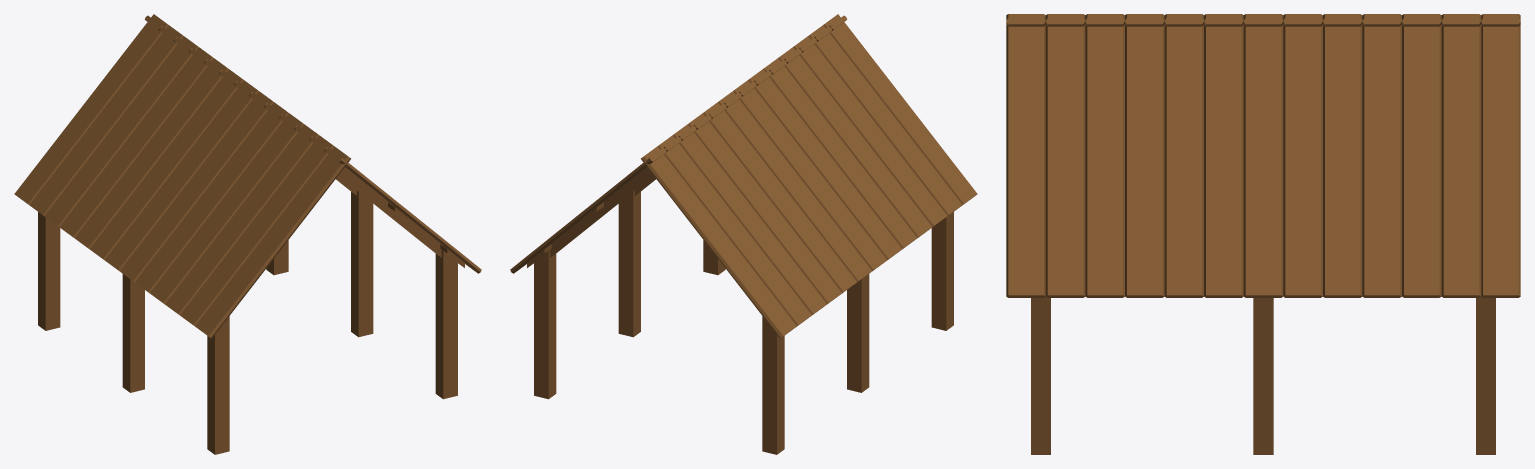
Rendered from Wooden Shed.fbx.
The picture shows the model from 3 angles, left to right: view 1: azimuth 30°, elevation 25°; view 2: azimuth 150°, elevation 25°; view 3: azimuth 270°, elevation 25°; orthographic projection. The views are drawn at different scales.
Parts seen in each view (by area): view 1: Roof.026, Roof.003, Roof.007, Roof.024, Roof.001, Roof.009, Roof.018, Roof.016, Roof.020, Roof.022, Roof.005, Roof.011 (+8 smaller); view 2: Roof.001, Roof.003, Roof.020, Roof.024, Roof.009, Roof.018, Roof.026, Roof.005, Roof.007, Roof.011, Roof.013, Roof.016 (+8 smaller); view 3: Roof.002, Roof.012, Roof.023, Roof.008, Roof.017, Roof.015, Roof.004, Roof.006, Roof.010, Roof.014, Roof.019, Roof.021 (+4 smaller).
Part boxes in pixels (<box>): Roof.026: <box>195,146,350,338</box>; Roof.003: <box>29,25,183,216</box>; Roof.007: <box>59,47,213,238</box>; Roof.024: <box>180,135,334,326</box>; Roof.001: <box>14,14,168,204</box>; Roof.009: <box>75,58,228,249</box>; Roof.018: <box>135,102,288,293</box>; Roof.016: <box>120,91,273,282</box>; Roof.020: <box>150,113,303,304</box>; Roof.022: <box>165,124,319,315</box>; Roof.005: <box>44,36,198,227</box>; Roof.011: <box>90,69,243,260</box>; Roof.001: <box>641,146,796,338</box>; Roof.003: <box>657,135,811,326</box>; Roof.020: <box>778,47,932,238</box>; Roof.024: <box>808,25,962,216</box>; Roof.009: <box>703,102,856,293</box>; Roof.018: <box>763,58,916,249</box>; Roof.026: <box>823,14,977,204</box>; Roof.005: <box>672,124,826,315</box>; Roof.007: <box>688,113,841,304</box>; Roof.011: <box>718,91,871,282</box>; Roof.013: <box>733,80,886,271</box>; Roof.016: <box>748,69,901,260</box>; Roof.002: <box>1441,14,1481,297</box>; Roof.012: <box>1243,14,1283,297</box>; Roof.023: <box>1045,14,1085,297</box>; Roof.008: <box>1323,14,1362,297</box>; Roof.017: <box>1164,14,1203,297</box>; Roof.015: <box>1481,14,1520,297</box>; Roof.004: <box>1402,14,1441,297</box>; Roof.006: <box>1362,14,1401,297</box>; Roof.010: <box>1283,14,1322,297</box>; Roof.014: <box>1204,14,1243,297</box>; Roof.019: <box>1125,14,1164,297</box>; Roof.021: <box>1085,14,1124,297</box>.
Bounding box in the file's own units: 1677 × 1611 × 2080.
